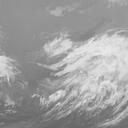cyclone: (42, 39, 112, 104)
